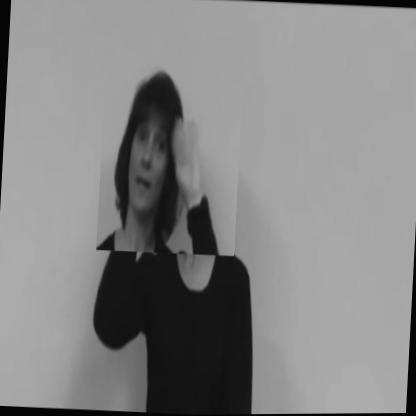Hello: (96, 54, 244, 257)
